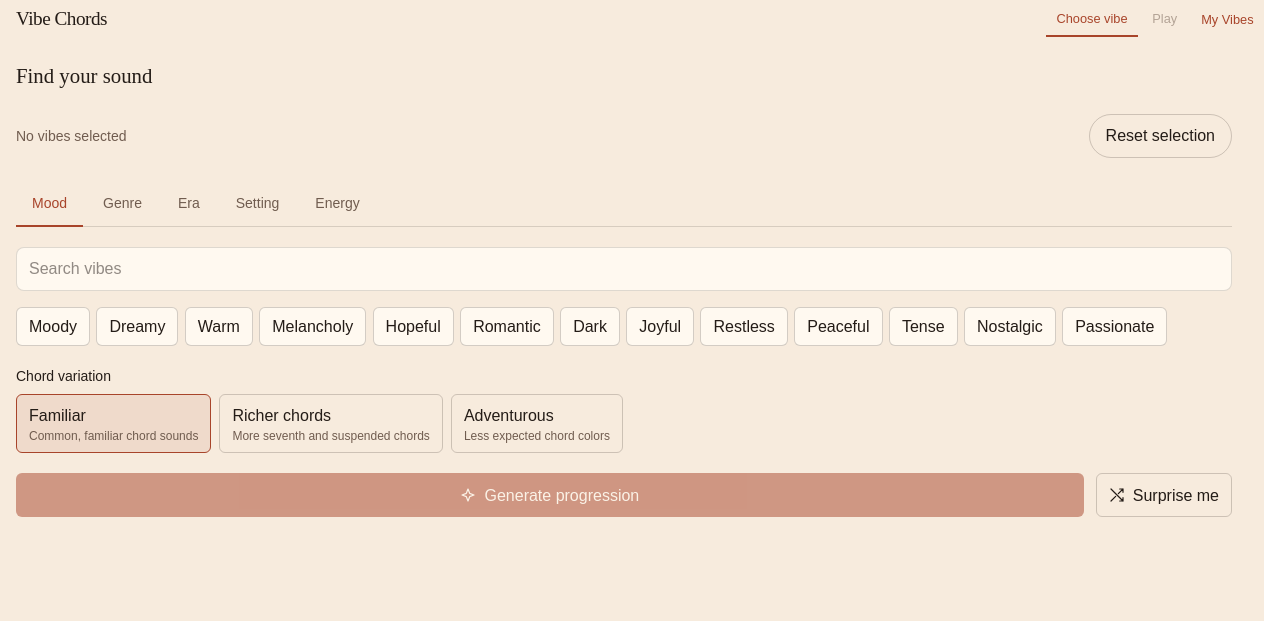
Test: the landing page keeps explicit generation after visible selection
The image size is (1264, 621).
expect the button "Generate progression" is disabled: met, box [16, 474, 1084, 518]
Click the button "Surprise me".
click(1164, 496)  # box [1096, 474, 1232, 518]
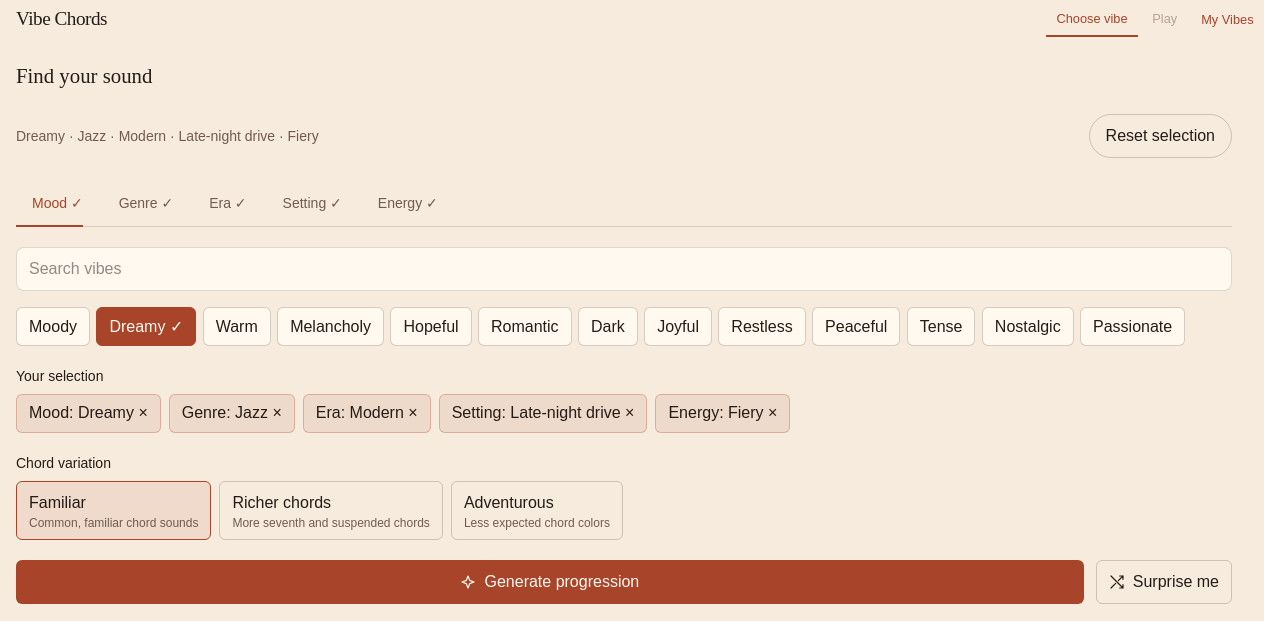
expect the button "Generate progression" is enabled: met, box [16, 560, 1084, 604]
